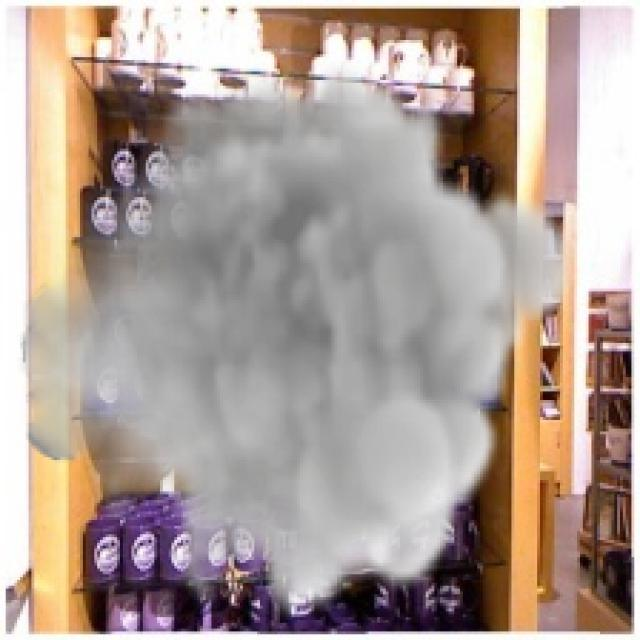smoke: (17, 63, 580, 620)
